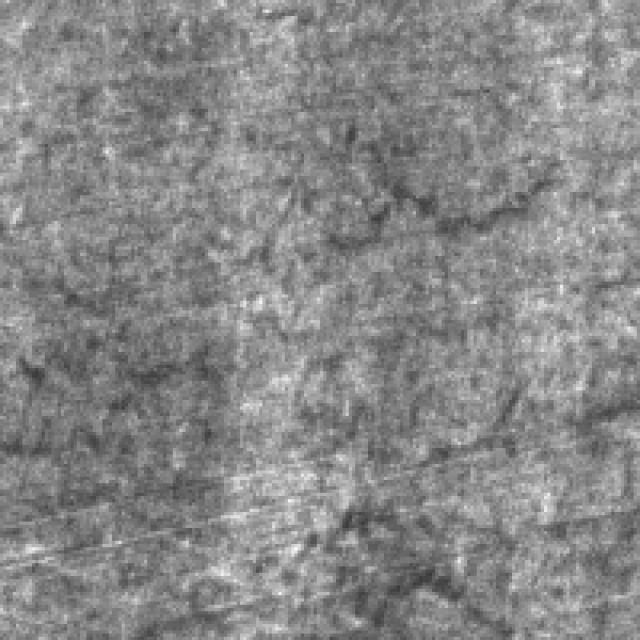crazing: (227, 87, 602, 276), (0, 272, 218, 589), (272, 429, 608, 630)
